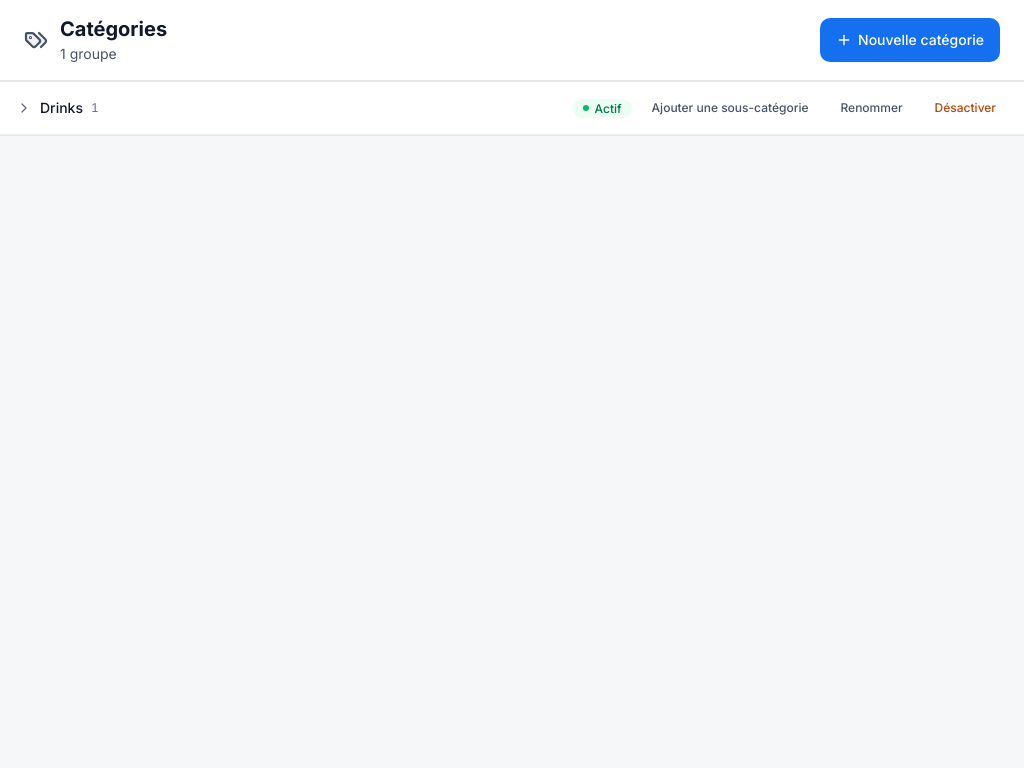
Scenario: CategoriesPage accordion › places a new subcategory under the opened category
What coordinates should you click on to do the following:
click the button "Ajouter une sous-catégorie"
I would click on:
 (730, 108)
Its box is [640,92,820,124].
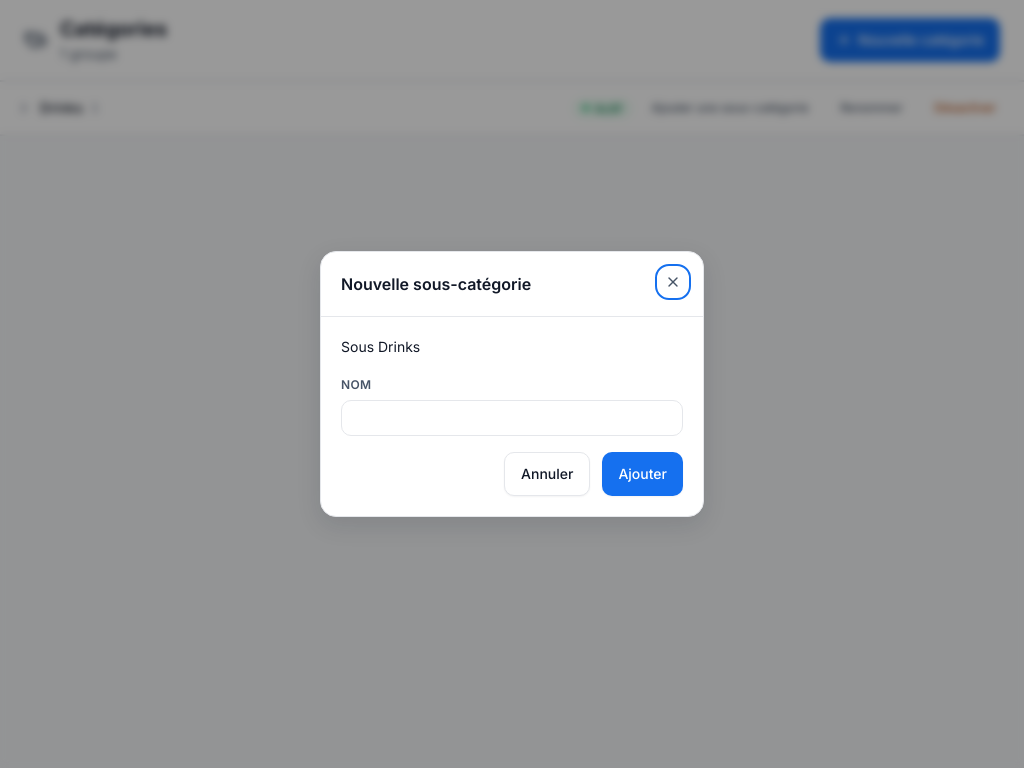
Expected: the heading "Nouvelle sous-catégorie" is shown, [341,272,531,296]
Expected: the text "Sous Drinks" is shown, [341,337,420,356]
